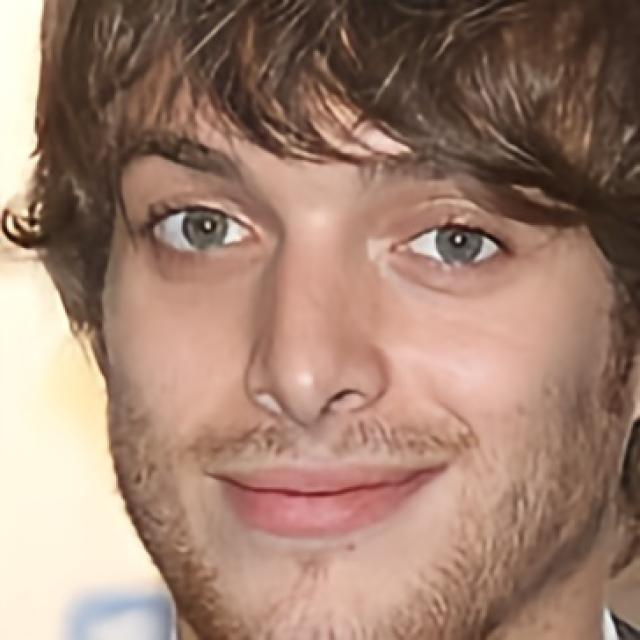content: (102, 16, 628, 640)
